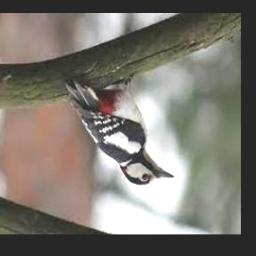Woodpecker: (65, 74, 176, 185)
